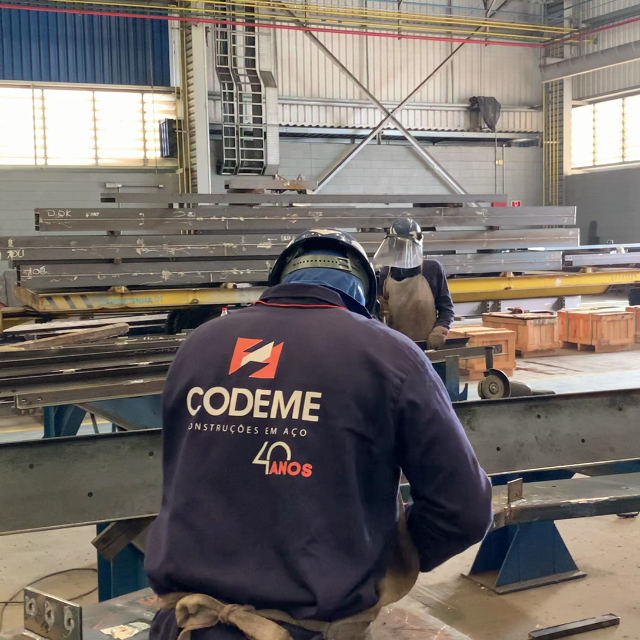face-shield: (370, 238, 422, 269)
helmet: (266, 229, 375, 306), (386, 217, 424, 239)
person: (138, 229, 496, 629)
